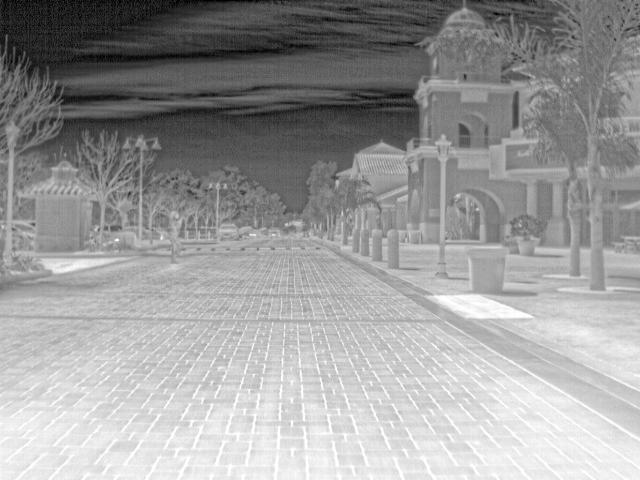car: (217, 223, 243, 240), (105, 223, 136, 235), (12, 228, 32, 246), (14, 214, 34, 230), (142, 226, 161, 240), (268, 228, 284, 240)
person: (165, 210, 181, 265)
